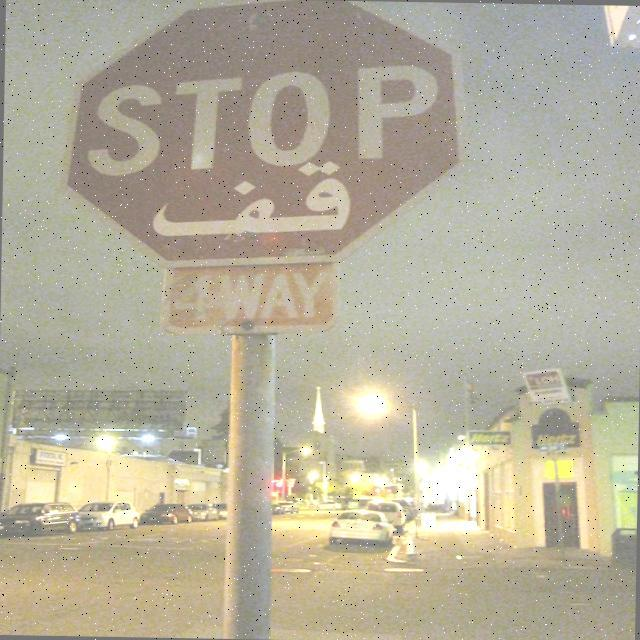fire_hydrant: (391, 534, 416, 560)
